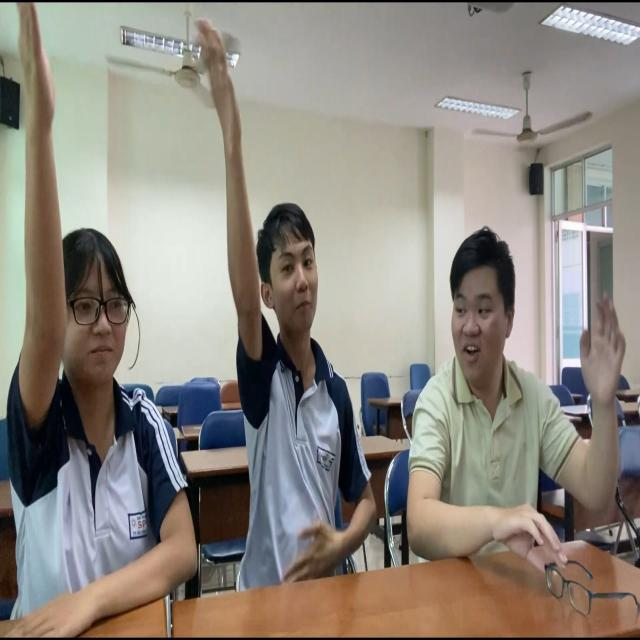raise_hand: (1, 1, 213, 640), (193, 12, 367, 539)
